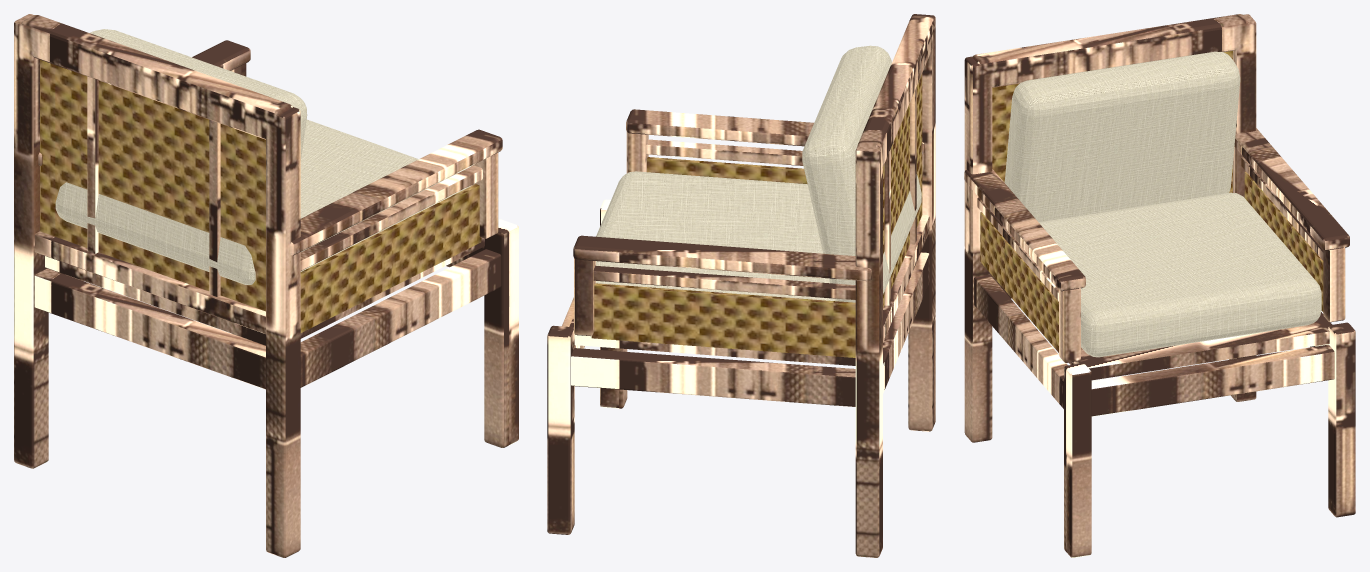
The model's file is liv-armchair-2.glb.
3 renders of one model, left to right at view 1: azimuth 30°, elevation 25°; view 2: azimuth 150°, elevation 25°; view 3: azimuth 270°, elevation 25°, orthographic. The views are drawn at different scales.
Visible parts, largest first — view 1: LM_Armchair2; view 2: LM_Armchair2; view 3: LM_Armchair2.
Boxes of the visible parts, left/top/right/bottom form: LM_Armchair2: left=14, top=14, right=518, bottom=557; LM_Armchair2: left=547, top=14, right=935, bottom=557; LM_Armchair2: left=964, top=14, right=1355, bottom=557.
Bounding box in the file's own units: 0.874 × 0.925 × 0.8633.
Materials: 3 (2 with a texture image).
